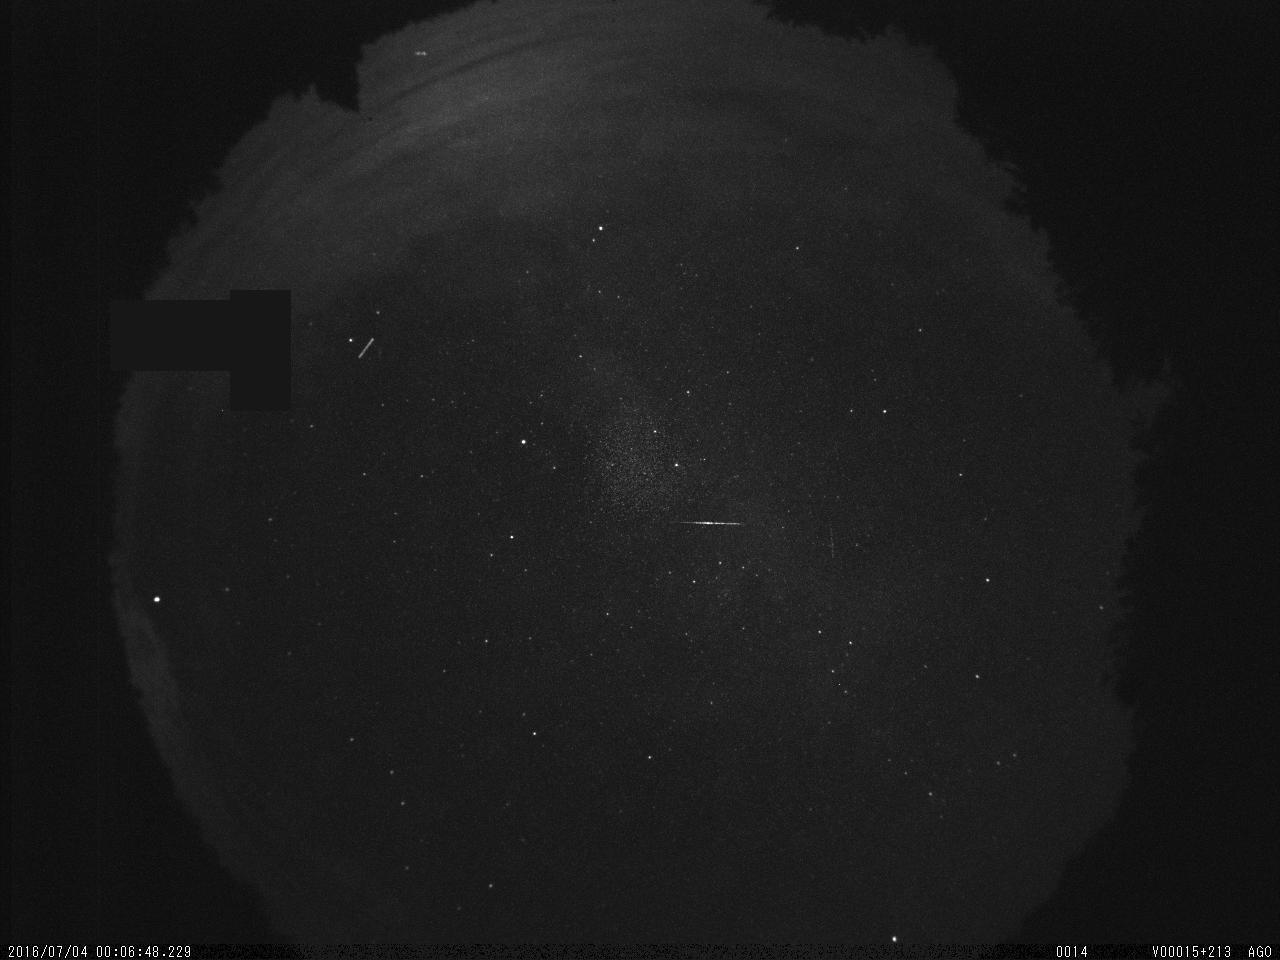meteor: (673, 514, 755, 530)
satelite: (353, 329, 381, 372)
